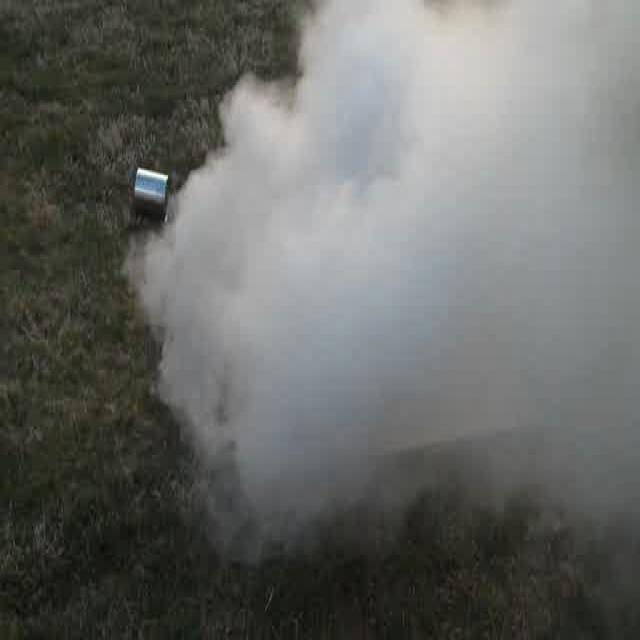Smoke: (204, 8, 638, 530)
